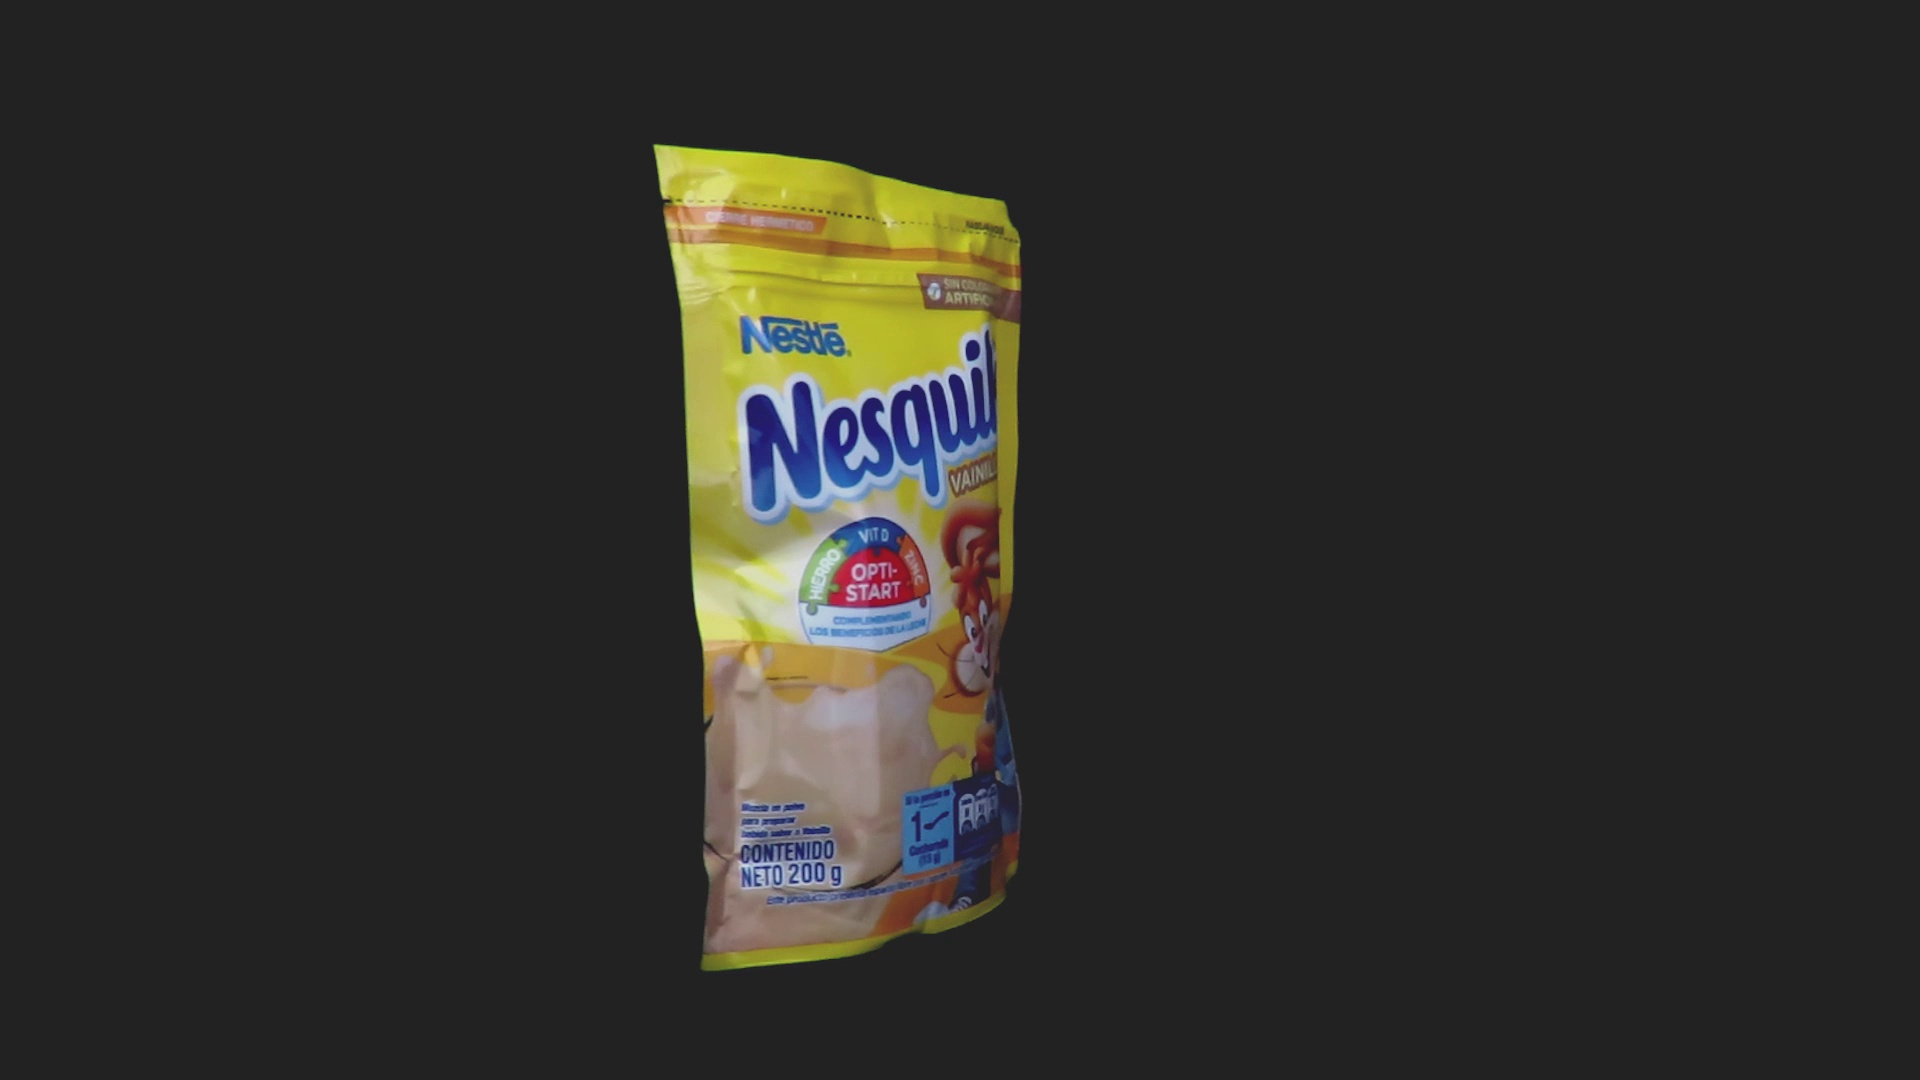COL0170306DYP20000: (647, 138, 1029, 977)
